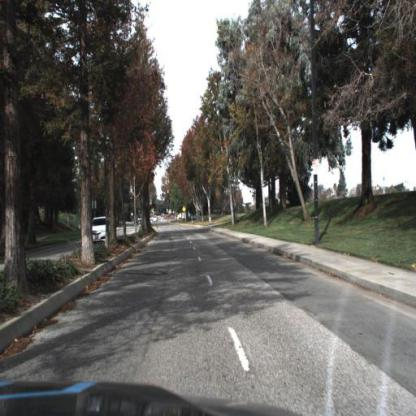car: (87, 213, 112, 247)
